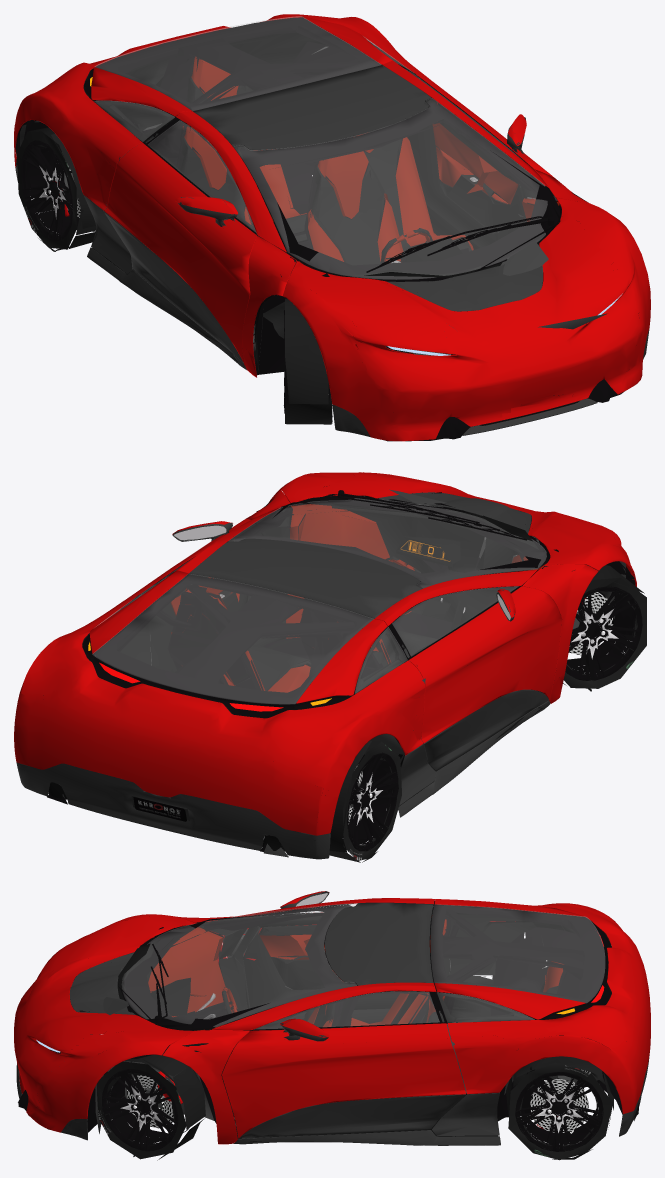
The model's file is carconcept.glb.
3 views of the same model, one above another, from view 1: azimuth 30°, elevation 25°; view 2: azimuth 150°, elevation 25°; view 3: azimuth 270°, elevation 25° (orthographic). The views are drawn at different scales.
Visible parts, largest first — view 1: BodyHood, BodyWindshield, BodyRearwindow, BodyDoorRColor1, BodyRearPanelsColor1, BodyRoofPanel, BodyWindshieldGasket, InteriorSeatsColor1, InteriorSeatsColor2, BodyPillars, InteriorRearHatch, InteriorPillar (+24 smaller); view 2: BodyRearPanelsColor1, BodyRearwindow, BodyWindshield, BodyDoorRColor1, BodyPanelsColor2, BodyRoofPanel, BodyHood, InteriorRearHatch, InteriorDashMid, BodyPillars, InteriorPillar, WheelFrontRRim (+23 smaller); view 3: BodyRearPanelsColor1, BodyWindshield, BodyDoorLColor1, BodyHood, BodyRearwindow, BodyRoofPanel, BodyPillars, BodyDoorLColor2, BodyWindshieldGasket, BodyPanelsColor2, InteriorRearHatch, InteriorFloor (+26 smaller).
Boxes of the visible parts, bbox=[...] form: BodyHood: bbox=[283, 198, 650, 441]; BodyWindshield: bbox=[233, 98, 547, 279]; BodyRearwindow: bbox=[95, 16, 381, 110]; BodyDoorRColor1: bbox=[104, 142, 256, 361]; BodyRearPanelsColor1: bbox=[14, 14, 428, 210]; BodyRoofPanel: bbox=[193, 65, 431, 150]; BodyWindshieldGasket: bbox=[240, 102, 561, 281]; InteriorSeatsColor1: bbox=[182, 56, 473, 261]; InteriorSeatsColor2: bbox=[180, 77, 471, 265]; BodyPillars: bbox=[176, 61, 596, 377]; InteriorRearHatch: bbox=[93, 17, 382, 117]; InteriorPillar: bbox=[157, 38, 425, 165]; BodyRearPanelsColor1: bbox=[14, 570, 425, 835]; BodyRearwindow: bbox=[92, 574, 373, 704]; BodyWindshield: bbox=[229, 498, 546, 588]; BodyDoorRColor1: bbox=[408, 586, 561, 743]; BodyPanelsColor2: bbox=[16, 628, 633, 859]; BodyRoofPanel: bbox=[189, 538, 421, 618]; BodyHood: bbox=[277, 472, 636, 586]; InteriorRearHatch: bbox=[93, 574, 383, 709]; InteriorDashMid: bbox=[331, 503, 538, 624]; BodyPillars: bbox=[175, 490, 598, 703]; InteriorPillar: bbox=[175, 577, 419, 683]; WheelFrontRRim: bbox=[565, 586, 642, 680]; BodyRearPanelsColor1: bbox=[434, 899, 650, 1114]; BodyWindshield: bbox=[122, 903, 356, 1026]; BodyDoorLColor1: bbox=[222, 1023, 465, 1138]; BodyHood: bbox=[14, 914, 196, 1132]; BodyRearwindow: bbox=[430, 904, 604, 1002]; BodyRoofPanel: bbox=[325, 902, 433, 985]; BodyPillars: bbox=[162, 898, 436, 1144]; BodyDoorLColor2: bbox=[239, 1094, 465, 1138]; BodyWindshieldGasket: bbox=[117, 904, 353, 1030]; BodyPanelsColor2: bbox=[16, 1007, 650, 1145]; InteriorRearHatch: bbox=[430, 904, 604, 1019]; InteriorFloor: bbox=[27, 925, 636, 1142].
Size of the model in its own units: 2.55 by 1.17 by 4.36.
Materials: 23 (6 with a texture image).
